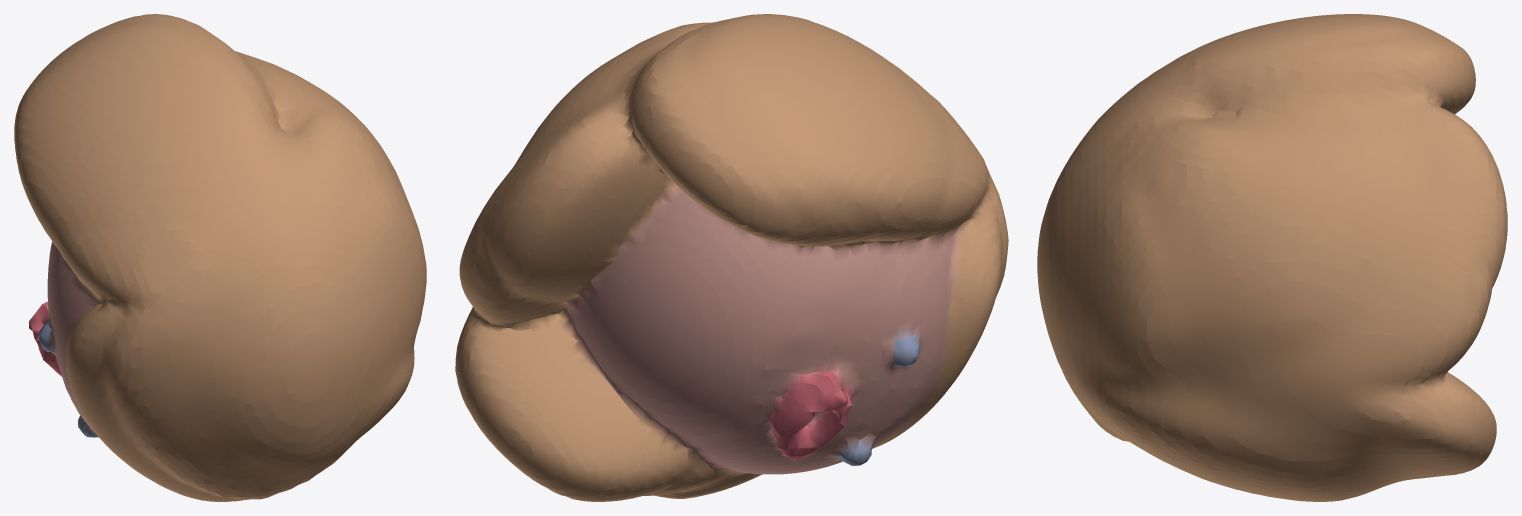
The model's file is kayla-head.gltf.
The picture shows the model from 3 angles, left to right: view 1: azimuth 30°, elevation 25°; view 2: azimuth 150°, elevation 25°; view 3: azimuth 270°, elevation 25°; orthographic projection. The views are drawn at different scales.
Parts seen in each view (by area): view 1: Layer_1; view 2: Layer_1; view 3: Layer_1.
Boxes of the visible parts, <box> form: Layer_1: <box>14,14,426,501</box>; Layer_1: <box>455,14,1008,501</box>; Layer_1: <box>1037,14,1507,501</box>.
Bounding box in the file's own units: 41.18 × 44.91 × 43.47.
1 material, 1 textured.
